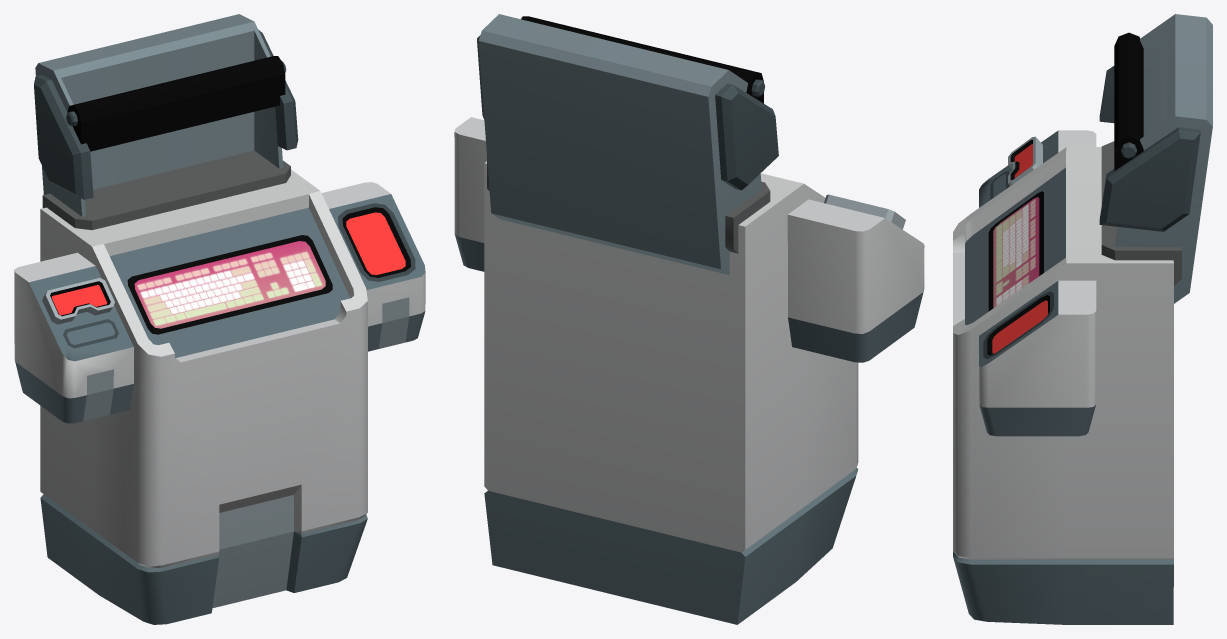
File: Terminal_003.fbx
3 renders of one model, left to right at view 1: azimuth 30°, elevation 25°; view 2: azimuth 150°, elevation 25°; view 3: azimuth 270°, elevation 25°, orthographic. The views are drawn at different scales.
Visible parts, largest first — view 1: Terminal_003; view 2: Terminal_003; view 3: Terminal_003.
Part boxes in pixels (x1,y1,x2,y2): Terminal_003: (14, 14, 425, 624); Terminal_003: (454, 14, 924, 624); Terminal_003: (953, 14, 1212, 624).
Size of the model in its own units: 124 by 73.7 by 158.
